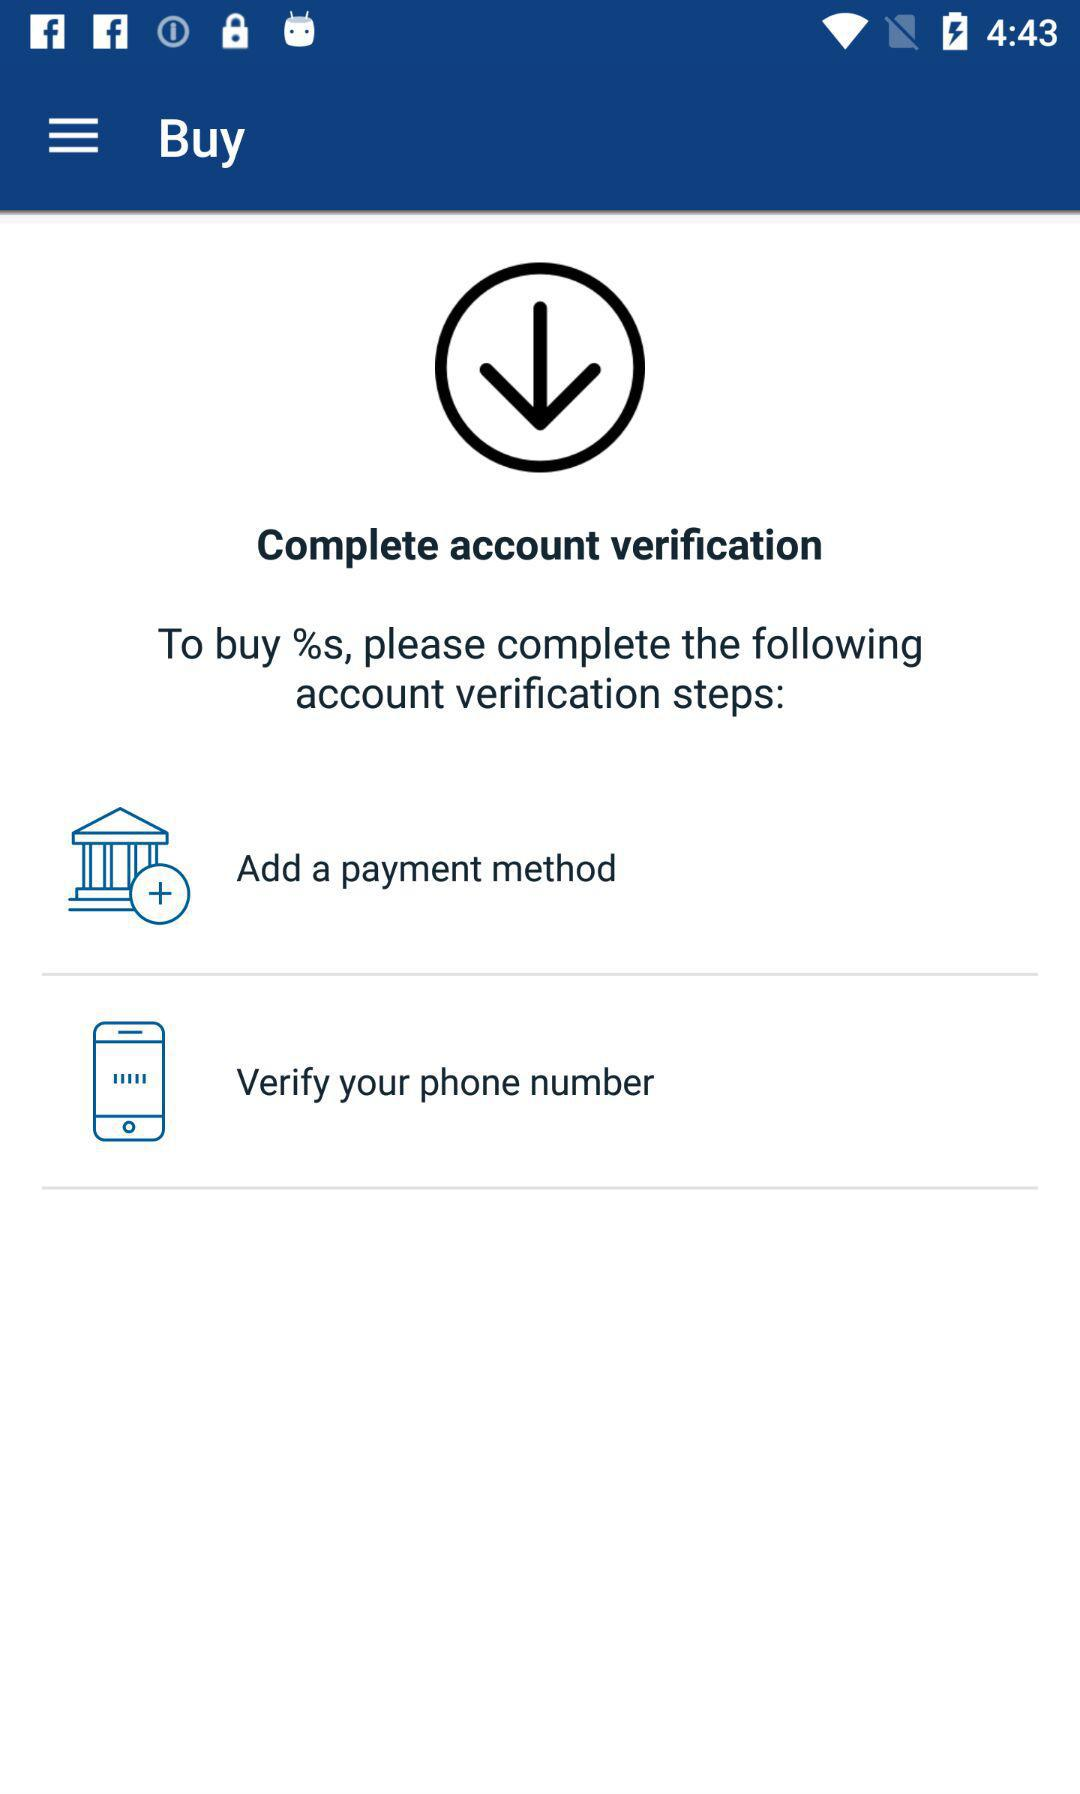Icon: (434, 261, 646, 474), (68, 806, 192, 926), (47, 117, 101, 156)
Image: (92, 1020, 167, 1144)
Text: (158, 625, 922, 718), (258, 525, 822, 570), (237, 1066, 656, 1105), (236, 852, 618, 891), (160, 118, 247, 170)
Toolbar: (1, 67, 1080, 211)
UpperTaskBar: (1, 1, 1080, 64)
